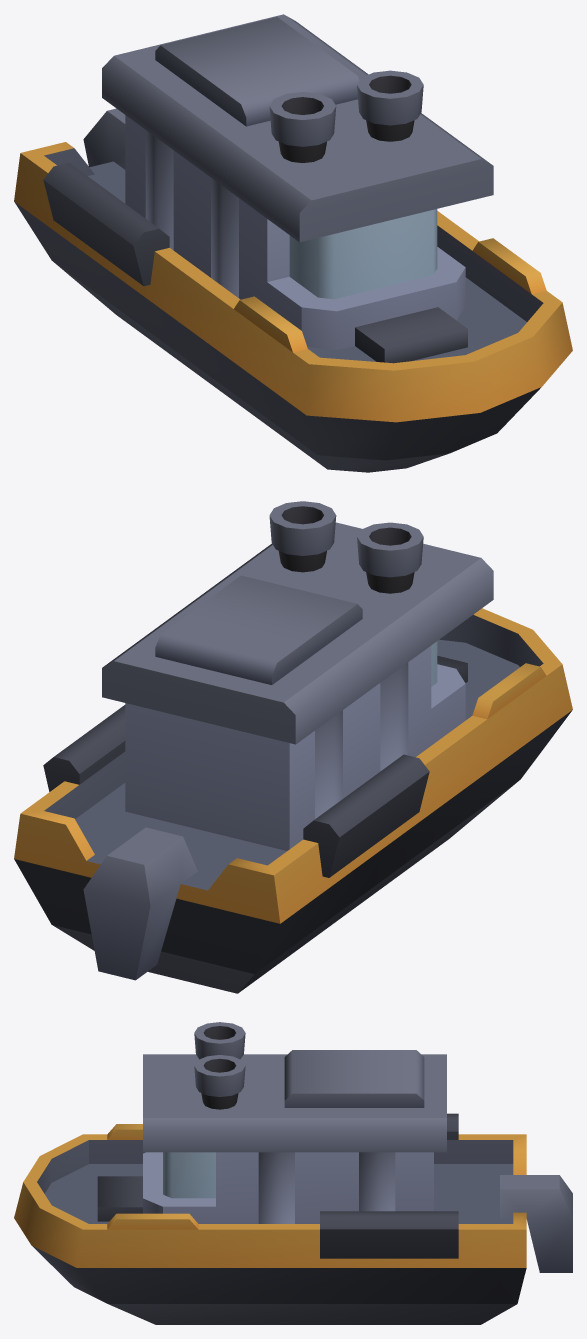
Rendered from boat-tow-b.glb.
3 views of the same model, one above another, from view 1: azimuth 30°, elevation 25°; view 2: azimuth 150°, elevation 25°; view 3: azimuth 270°, elevation 25° (orthographic). The views are drawn at different scales.
Parts seen in each view (by area): view 1: boat-tow-b; view 2: boat-tow-b; view 3: boat-tow-b.
Boxes of the visible parts, left/top/right/bottom form: boat-tow-b: left=14, top=14, right=572, bottom=472; boat-tow-b: left=14, top=501, right=572, bottom=993; boat-tow-b: left=14, top=1022, right=572, bottom=1324.
Bounding box in the file's own units: 2.88 × 3.05 × 6.12.
